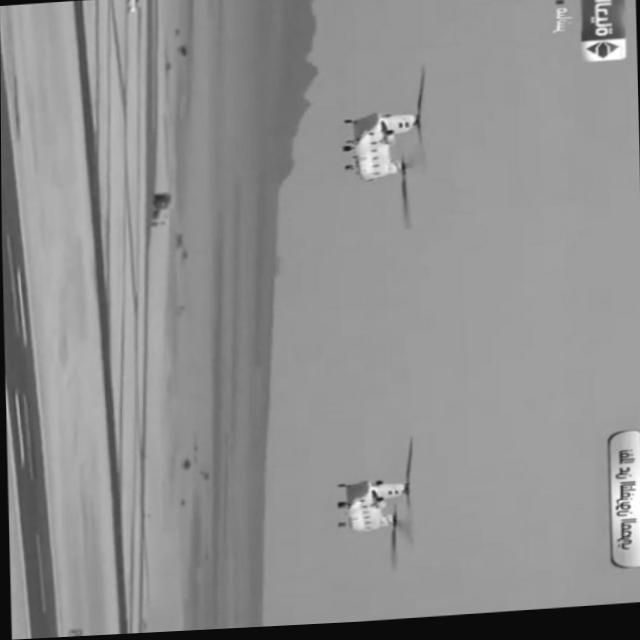helikopter: (323, 88, 443, 211), (320, 453, 428, 565)
